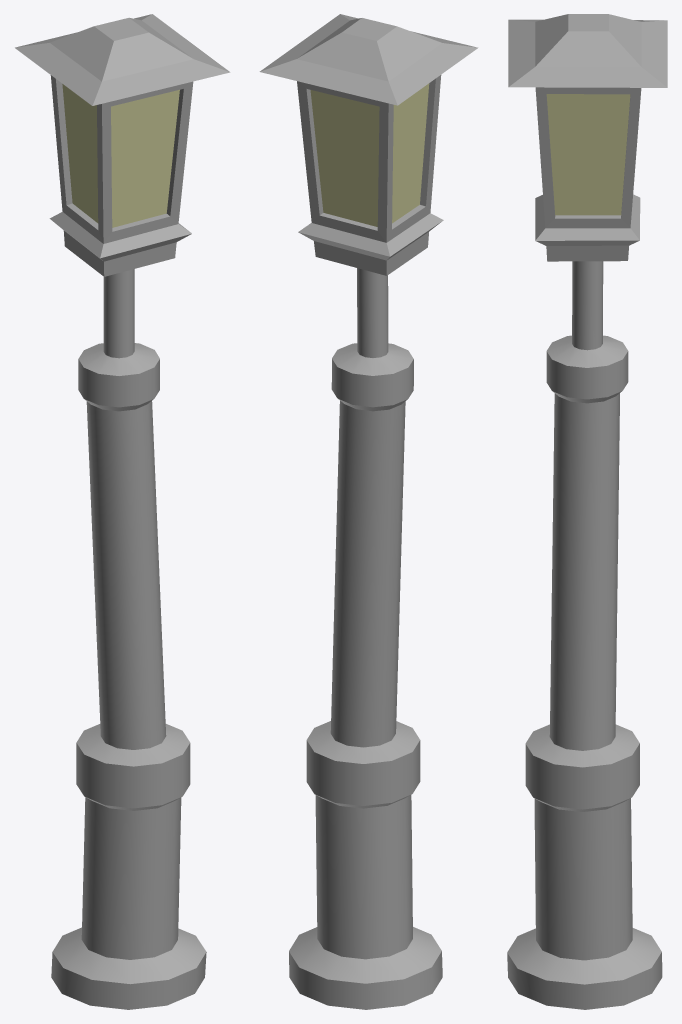
File: EP_ENV_lamp.fbx
The picture shows the model from 3 angles, left to right: view 1: azimuth 30°, elevation 25°; view 2: azimuth 150°, elevation 25°; view 3: azimuth 270°, elevation 25°; orthographic projection.
Parts seen in each view (by area): view 1: EP_ENV_lamp; view 2: EP_ENV_lamp; view 3: EP_ENV_lamp.
Boxes of the visible parts, x1,y1,x2,y2 form: EP_ENV_lamp: [15, 14, 230, 1009]; EP_ENV_lamp: [259, 14, 478, 1009]; EP_ENV_lamp: [507, 14, 667, 1009].
Bounding box in the file's own units: 36.37 × 233 × 35.64.
